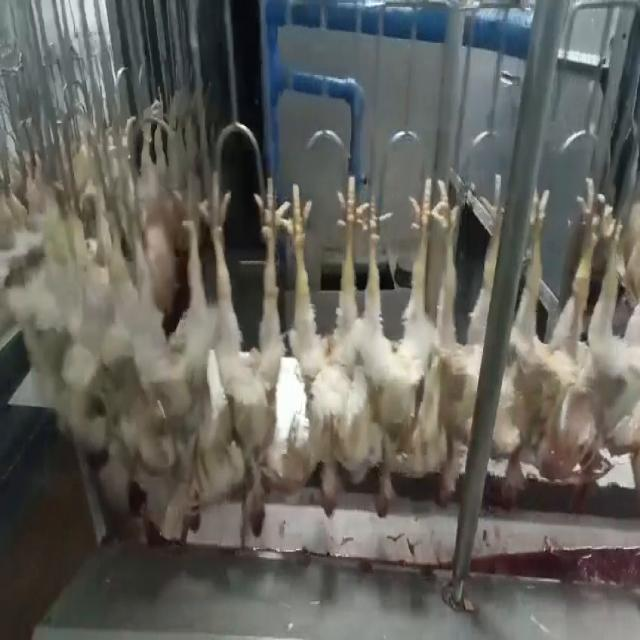chicken: (493, 175, 591, 509), (202, 174, 284, 536), (277, 179, 363, 515), (354, 172, 434, 517), (411, 175, 492, 506), (566, 195, 636, 496), (147, 195, 203, 534)
